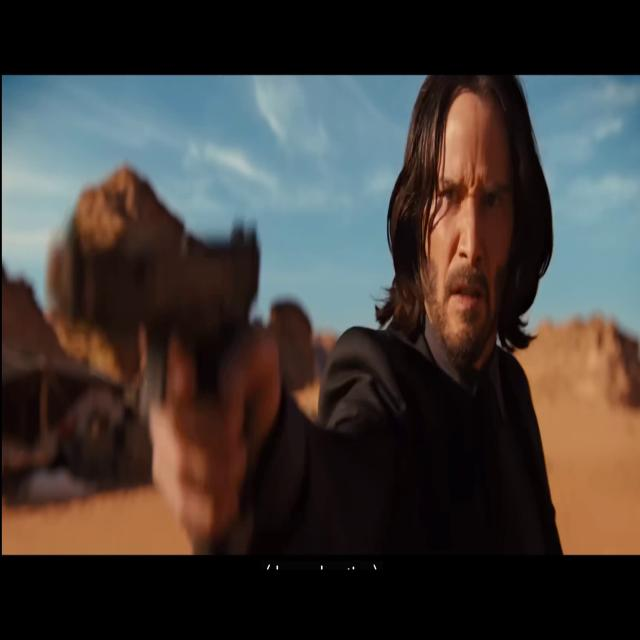weapons: (41, 206, 281, 498)
